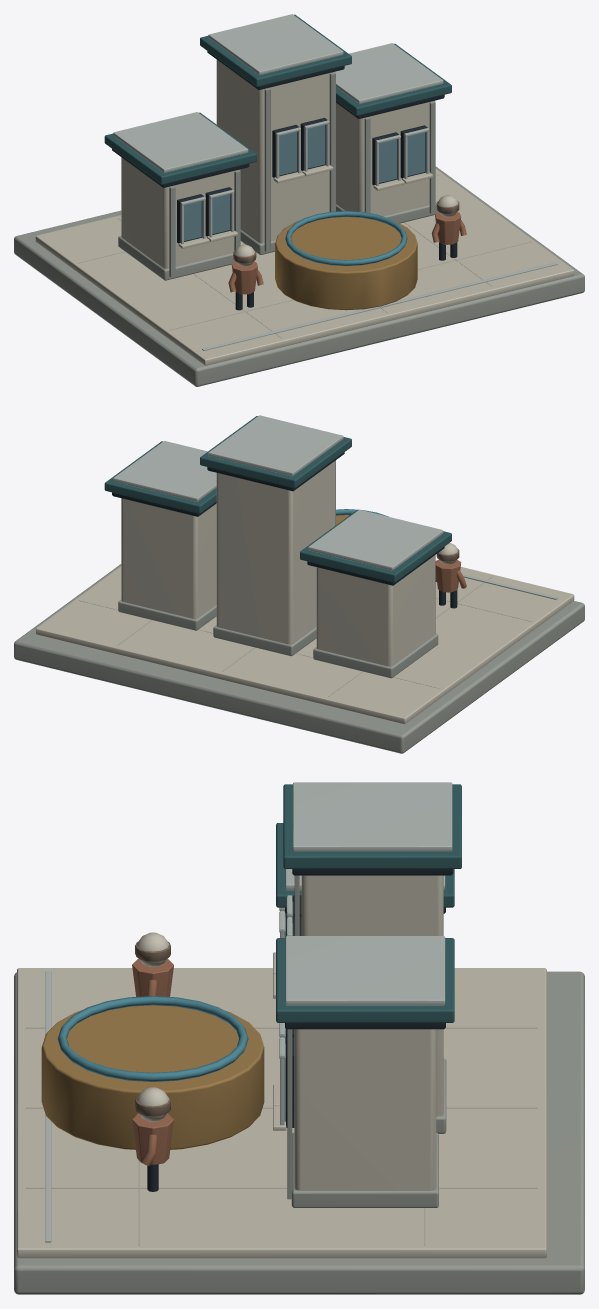
File: idea-29d1ca65.glb
3 views of the same model, one above another, from view 1: azimuth 30°, elevation 25°; view 2: azimuth 150°, elevation 25°; view 3: azimuth 270°, elevation 25° (orthographic). The views are drawn at different scales.
Parts seen in each view (by area): view 1: RWA Predictive Governance; view 2: RWA Predictive Governance; view 3: RWA Predictive Governance.
Part boxes in pixels (bbox=[...]): RWA Predictive Governance: bbox=[14, 14, 584, 386]; RWA Predictive Governance: bbox=[14, 415, 584, 753]; RWA Predictive Governance: bbox=[14, 782, 584, 1294].
Size of the model in its own units: 4.8 by 2.52 by 3.9.
